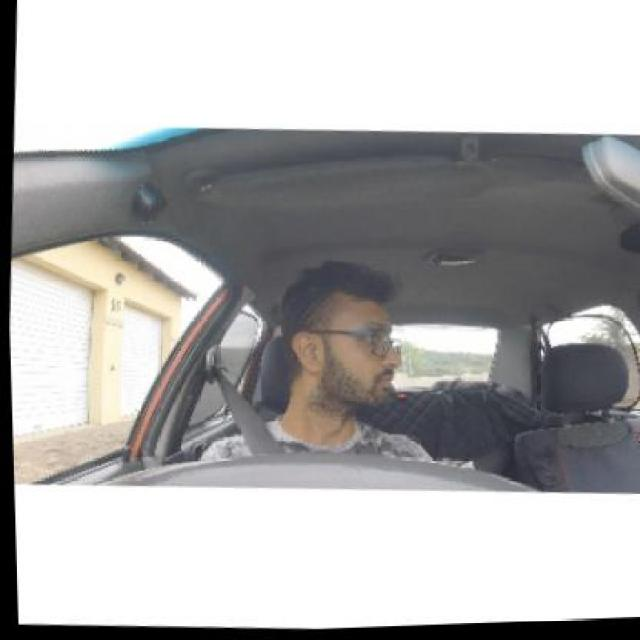LeftRight: (263, 239, 433, 452)
